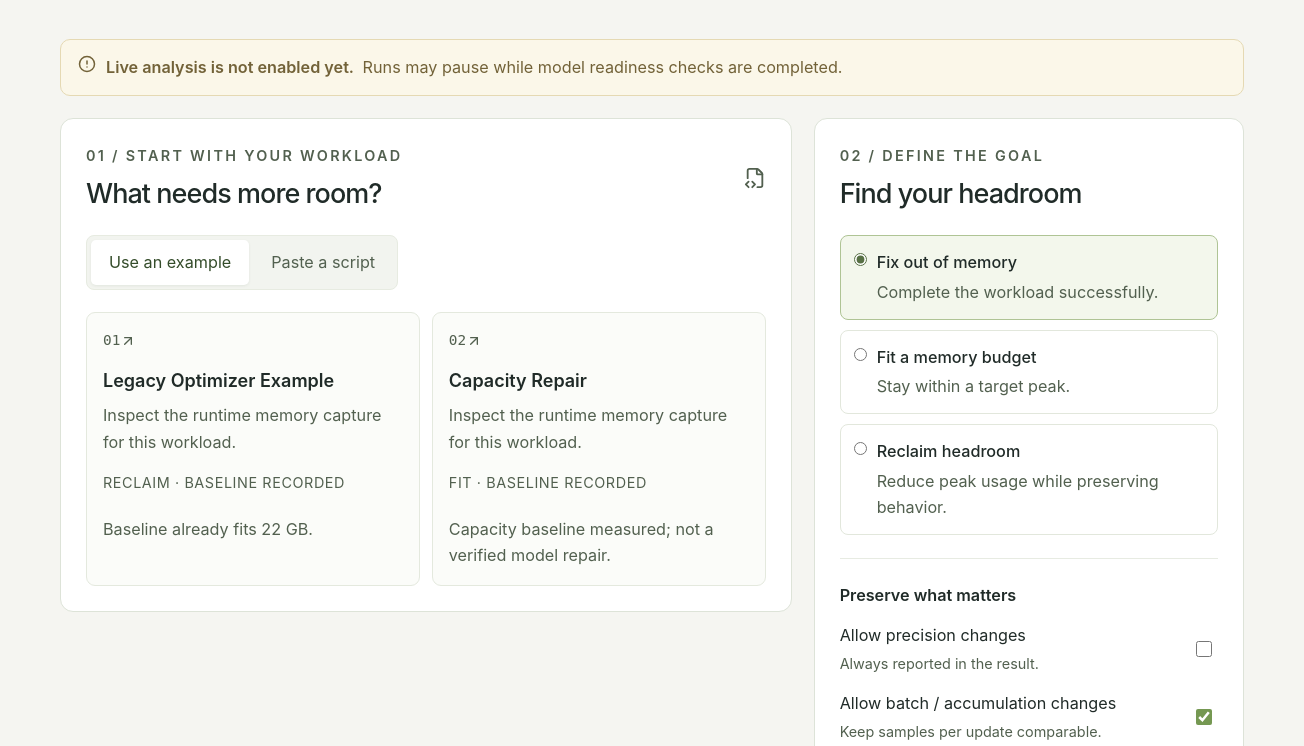
example target presets › uses old reclaim and new fit22 recommendations and sends the capacity environment
(page scrolled)
Click the button "Legacy optimizer example" at (219, 380), box x1=86 y1=312 x2=420 y2=586
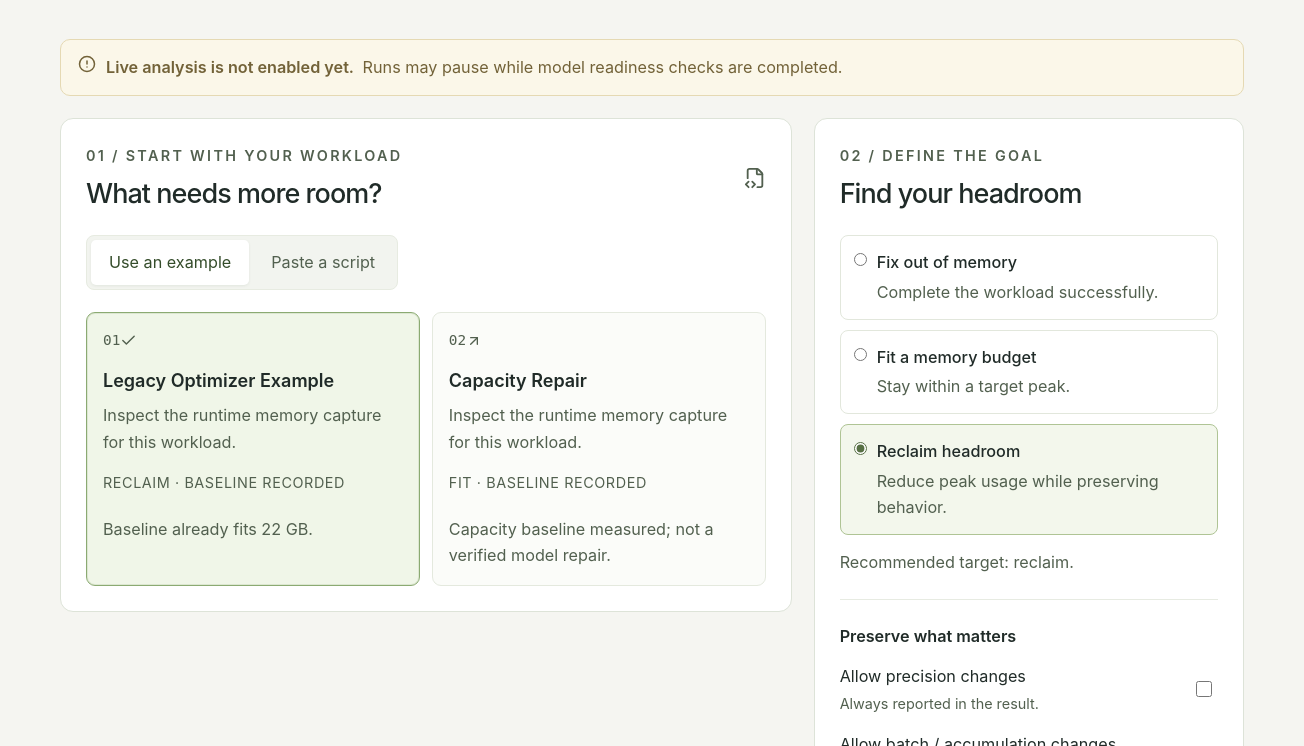
Result: the radio button labelled "Reclaim headroom" is checked at x1=854 y1=442 x2=867 y2=455
Click the button "Capacity repair" at (518, 380), box x1=432 y1=312 x2=766 y2=586
(page scrolled)
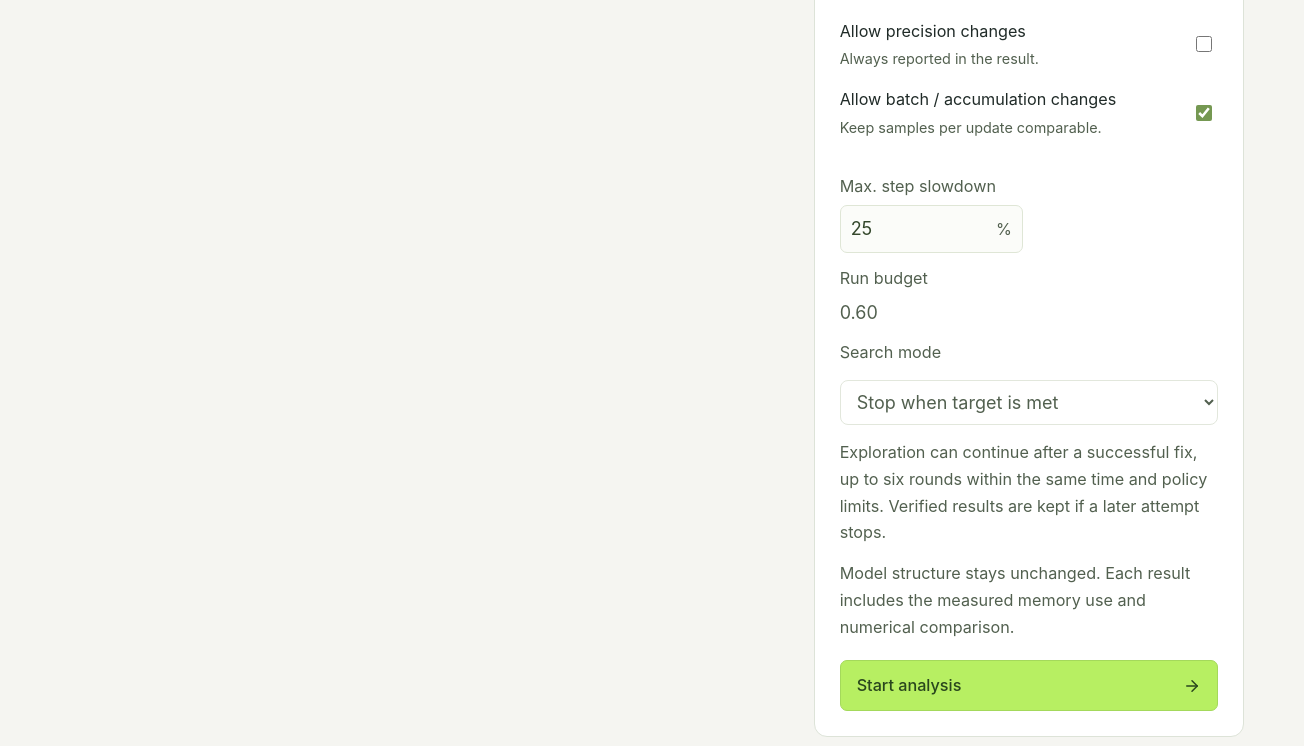
Click the button "Start analysis" at (909, 685), box x1=840 y1=660 x2=1218 y2=711
(page scrolled)
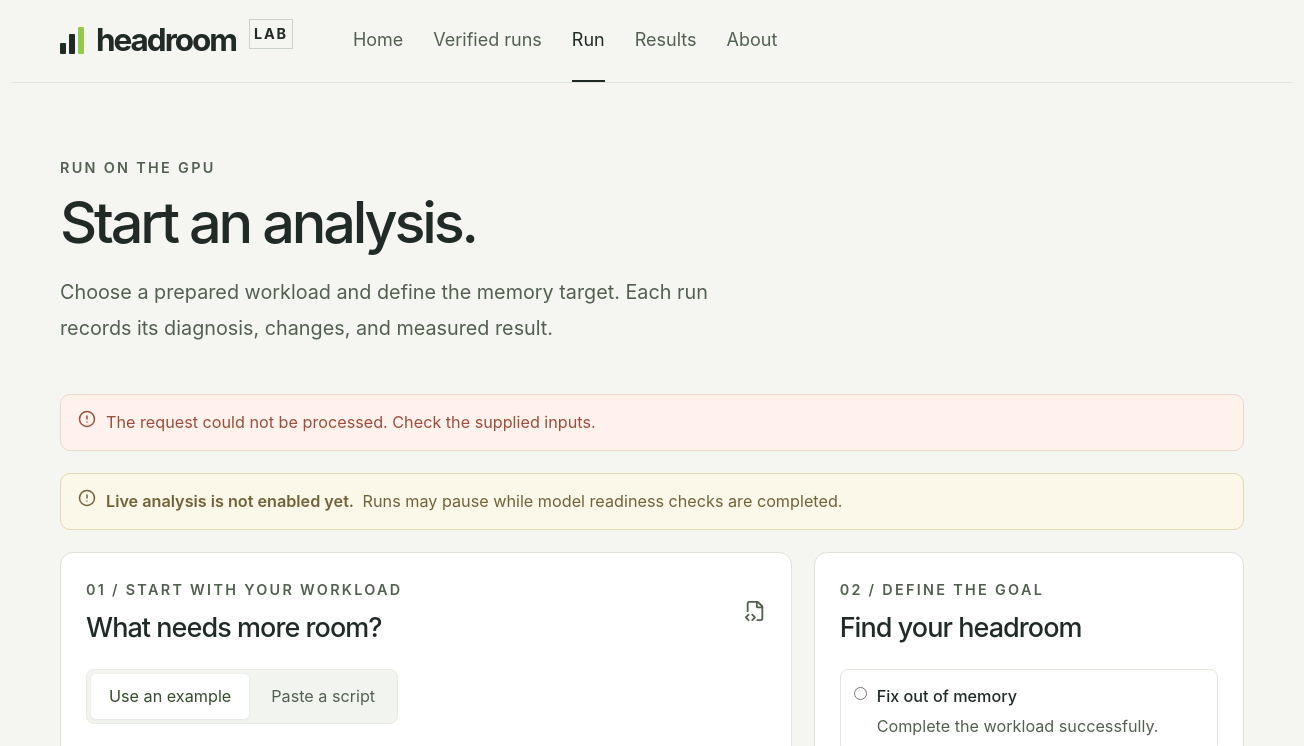
Result: the text "The request could not be processed. Check the supplied inputs." is shown at x1=106 y1=410 x2=596 y2=436
